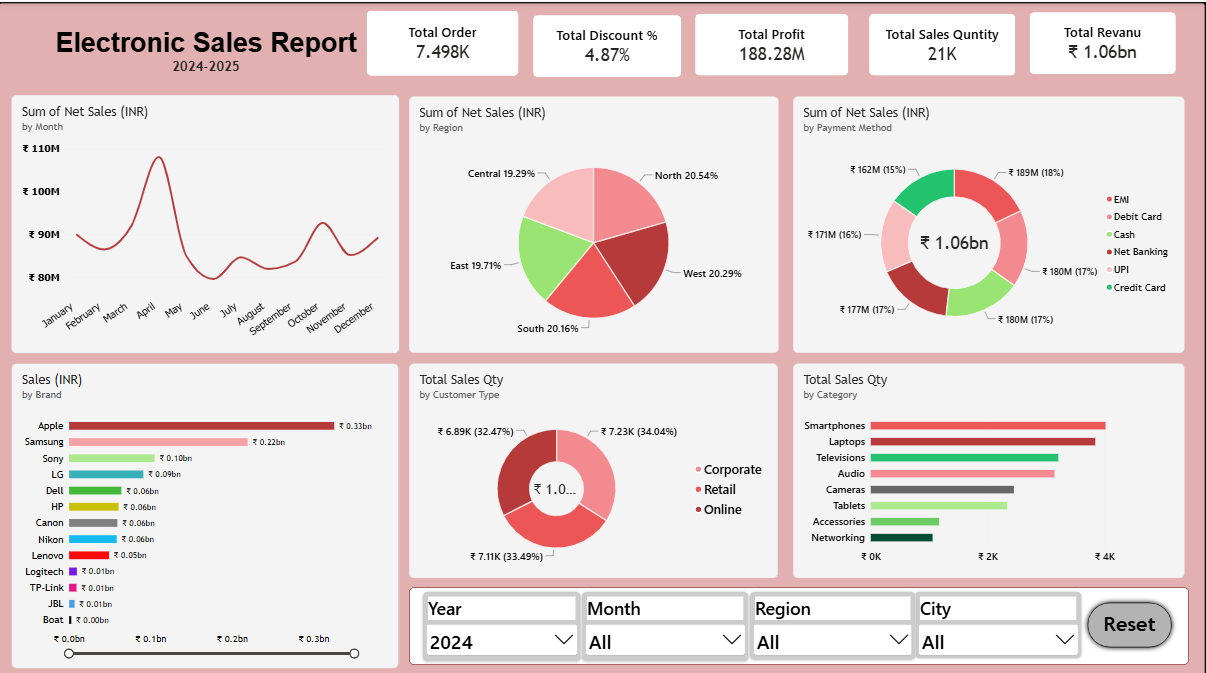

Layout of this report page (visuals, bound fields, positions):
{"tool":"powerbi","page":{"name":"Main","canvas":[1920,1080],"ordinal":0},"visuals":[{"type":"lineChart","fields":{"Category":["Sales Data.Month"],"Y":["Sum(Sales Data.Net Sales (INR))"]},"box":[21.5,147.9,616.9,410.5],"z":0},{"type":"shape","box":[653.7,930.5,1240.7,124.1],"z":0,"group":"g1"},{"type":"pieChart","fields":{"Category":["Sales Data.Region"],"Y":["Sum(Sales Data.Net Sales (INR))"]},"box":[653.7,150.3,587.8,408],"z":1000},{"type":"slicer","fields":{"Values":["Sales Data.City"]},"box":[1458.7,938.5,266.3,106.9],"z":1000,"group":"g1"},{"type":"donutChart","fields":{"Category":["Sales Data.Payment Method"],"Y":["Sum(Sales Data.Net Sales (INR))"]},"box":[1264.5,150.3,622.7,408],"z":2000},{"type":"donutChart","fields":{"Y":["Sales Data.Total Sales"],"Category":["Sales Data.Customer Type"]},"box":[653.7,575,586.9,341.2],"z":3000},{"type":"slicer","fields":{"Values":["Sales Data.Region"]},"box":[1194.2,938.5,264.5,109.3],"z":3000,"group":"g1"},{"type":"textbox","box":[31,40.6,599.9,87.4],"z":4000},{"type":"slicer","fields":{"Values":["Sales Data.Year"]},"box":[675.8,938.5,252.1,111.7],"z":4000,"group":"g1"},{"type":"barChart","fields":{"Category":["Sales Data.Brand"],"Y":["Sum(Sales Data.Net Sales (INR))"]},"box":[21.5,575,615.6,484.3],"z":5000},{"type":"group","id":"g1","title":"Group 1","box":[653.7,930.5,1240.7,124.1],"z":6000},{"type":"slicer","fields":{"Values":["Sales Data.Months"]},"box":[927.9,938.5,266.3,111.7],"z":6000,"group":"g1"},{"type":"barChart","fields":{"Category":["Sales Data.Category"],"Y":["Sales Data.Total Sales"]},"box":[1264.5,575,622.7,341.2],"z":7000},{"type":"actionButton","box":[1725,948.2,149.9,87.4],"z":7000,"group":"g1"},{"type":"group","id":"g2","title":"Group 2","box":[576.1,2.9,1311.2,128.3],"z":8000},{"type":"group","id":"g3","title":"Group 3","box":[576.1,2.9,1311.2,128.3],"z":8002,"group":"g2"},{"type":"cardVisual","fields":{"Data":["Sum(Sales Data.Net Sales (INR))"]},"box":[1631.4,4.7,255.9,121.7],"z":10000,"group":"g3"},{"type":"cardVisual","fields":{"Data":["Sum(Sales Data.Quantity)"]},"box":[1375.5,7.1,255.9,121.7],"z":11000,"group":"g3"},{"type":"cardVisual","fields":{"Data":["Avg(Sales Data.Discount %)"]},"box":[839.9,9.5,258.5,121.7],"z":12000,"group":"g3"},{"type":"cardVisual","fields":{"Data":["Sum(Sales Data.Profit (INR))"]},"box":[1098.5,7.1,266.5,121.7],"z":13000,"group":"g3"},{"type":"cardVisual","fields":{"Data":["Count(Sales Data.Order ID)"]},"box":[576.1,2.9,264.8,126.5],"z":14000,"group":"g3"}]}

Visuals, with their boxes in screenshot pixels (x1, y1, x2, y2), scaled from the page's 1920x1080 canvas onto the 1206x673 screenshot:
lineChart - Sales Data.Month x Sum(Sales Data.Net Sales (INR)): <box>14,92,401,348</box>
shape: <box>411,580,1190,657</box>
pieChart - Sales Data.Region x Sum(Sales Data.Net Sales (INR)): <box>411,94,780,348</box>
slicer - Sales Data.City: <box>916,585,1084,651</box>
donutChart - Sales Data.Payment Method x Sum(Sales Data.Net Sales (INR)): <box>794,94,1185,348</box>
donutChart - Sales Data.Total Sales x Sales Data.Customer Type: <box>411,358,779,571</box>
slicer - Sales Data.Region: <box>750,585,916,653</box>
textbox: <box>19,25,396,80</box>
slicer - Sales Data.Year: <box>424,585,583,654</box>
barChart - Sales Data.Brand x Sum(Sales Data.Net Sales (INR)): <box>14,358,400,660</box>
"Group 1" group: <box>411,580,1190,657</box>
slicer - Sales Data.Months: <box>583,585,750,654</box>
barChart - Sales Data.Category x Sales Data.Total Sales: <box>794,358,1185,571</box>
actionButton: <box>1084,591,1178,645</box>
"Group 2" group: <box>362,2,1185,82</box>
"Group 3" group: <box>362,2,1185,82</box>
cardVisual - Sum(Sales Data.Net Sales (INR)): <box>1025,3,1185,79</box>
cardVisual - Sum(Sales Data.Quantity): <box>864,4,1025,80</box>
cardVisual - Avg(Sales Data.Discount %): <box>528,6,690,82</box>
cardVisual - Sum(Sales Data.Profit (INR)): <box>690,4,857,80</box>
cardVisual - Count(Sales Data.Order ID): <box>362,2,528,81</box>
